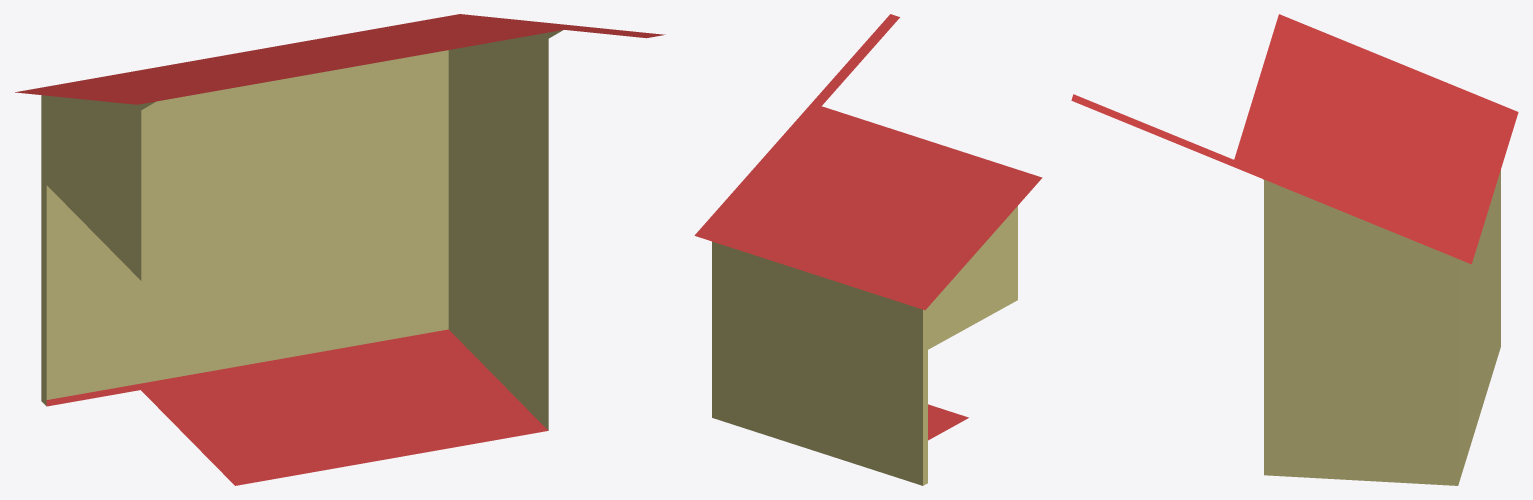
The picture shows the model from 3 angles, left to right: view 1: azimuth 30°, elevation 25°; view 2: azimuth 150°, elevation 25°; view 3: azimuth 270°, elevation 25°; orthographic projection. The views are drawn at different scales.
Size of the model in its own units: 12.47 by 14.23 by 13.01.
